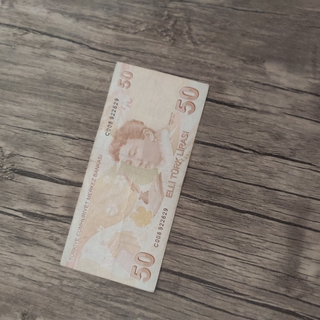50TLBack: (60, 61, 211, 293)
